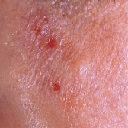Herpes Virus: (29, 9, 68, 54)
